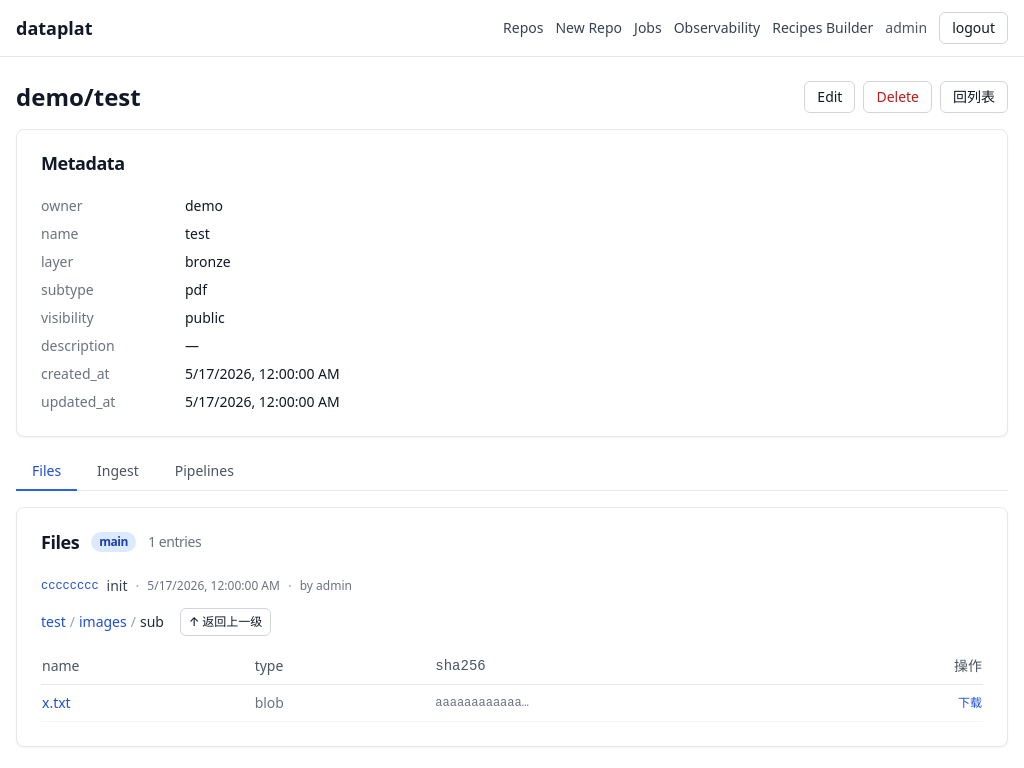
Scenario: repo detail Files section › 面包屑：path 非空时显示路径段 + 返回上一级；点段回退
The image size is (1024, 768).
Expected: the text "sub" is shown, [140,612,164,632]
Expected: the button "↑ 返回上一级" is shown, [180,608,271,636]
// 点 "images" 段（中间，可点）
Click the button "images".
click(103, 622)  # box [79,612,127,632]
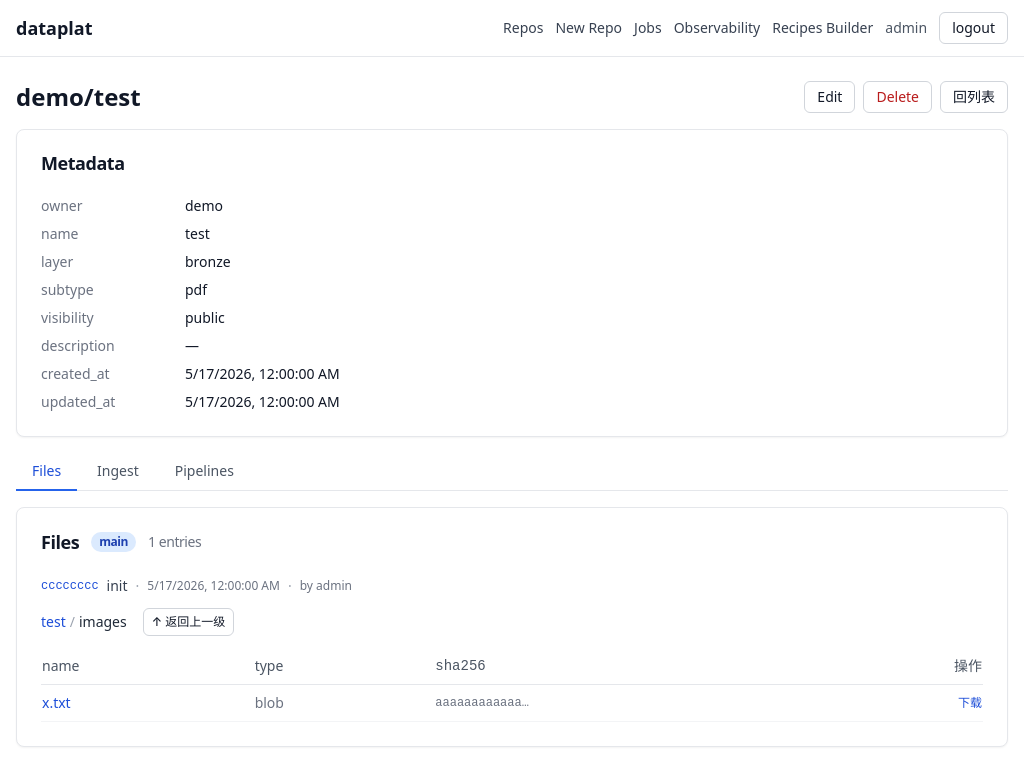
Expected: the text "images" is shown, [79,612,127,632]
